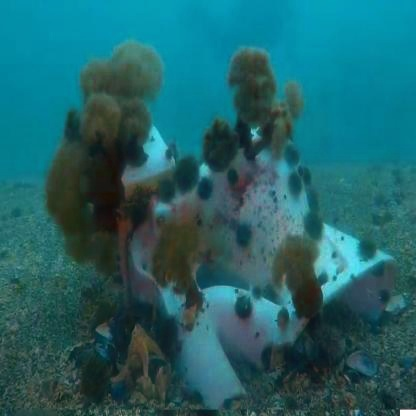misc: (98, 149, 332, 398)
